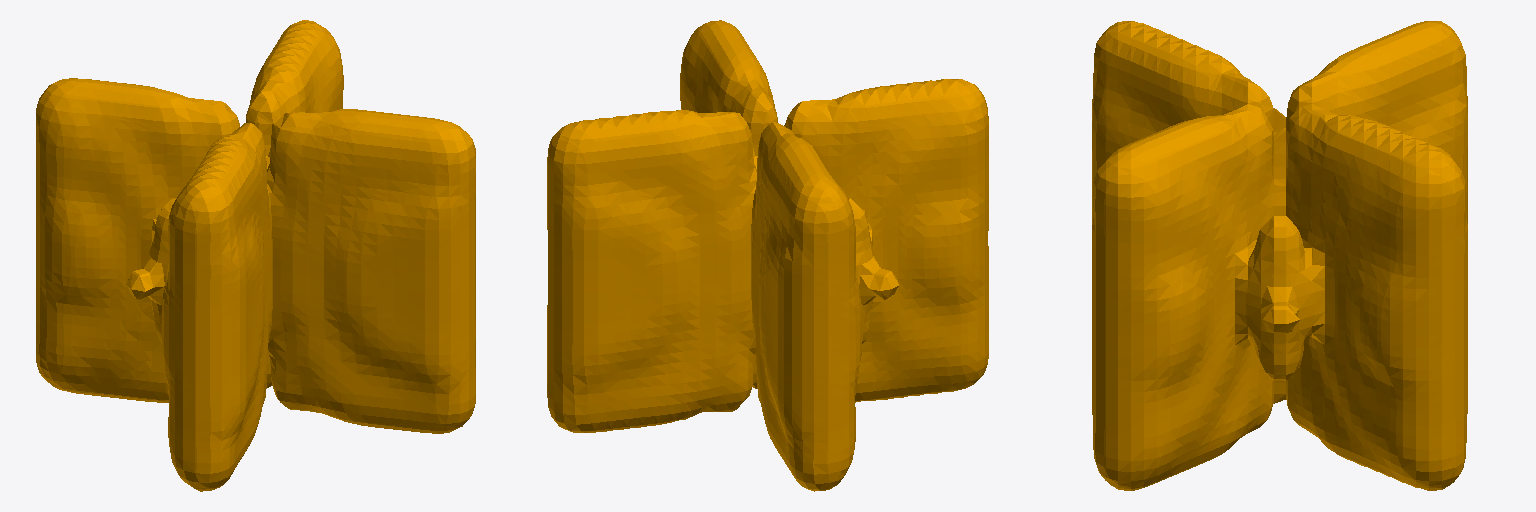
URDF robot description (object):
<?xml version="1.0"?>
        <robot name="object">
          <link name="object">
            <visual>
              <origin xyz="0.0 0.0 0.0"/>
              <geometry>
                <mesh filename="E3.stl" scale="1.00 1.00 1.00"/>
              </geometry>
            </visual>
            <collision>
              <origin xyz="0.0 0.0 0.0"/>
              <geometry>
                <mesh filename="E3.stl" scale="1.00 1.00 1.00"/>
              </geometry>
            </collision>
          </link>
        </robot>

--- Facts derived from the render (not from the file) ---
Views: 3 orthographic renders of the robot side by side, from view 1: azimuth 30°, elevation 25°; view 2: azimuth 150°, elevation 25°; view 3: azimuth 270°, elevation 25°.
Robot: object — 1 links, 0 joints (none); root link object; default pose: every joint at zero.
Links seen in each view (by area): view 1: object; view 2: object; view 3: object.
Link boxes in pixels (x1=…): object: x1=36, y1=20, x2=475, y2=491; object: x1=547, y1=20, x2=988, y2=491; object: x1=1092, y1=21, x2=1467, y2=490.
Bounding box of the posed robot: 0.1 × 0.0995 × 0.0997 m (x, y, z).
1 mesh visuals loaded from 1 distinct referenced files (1 binary STL).